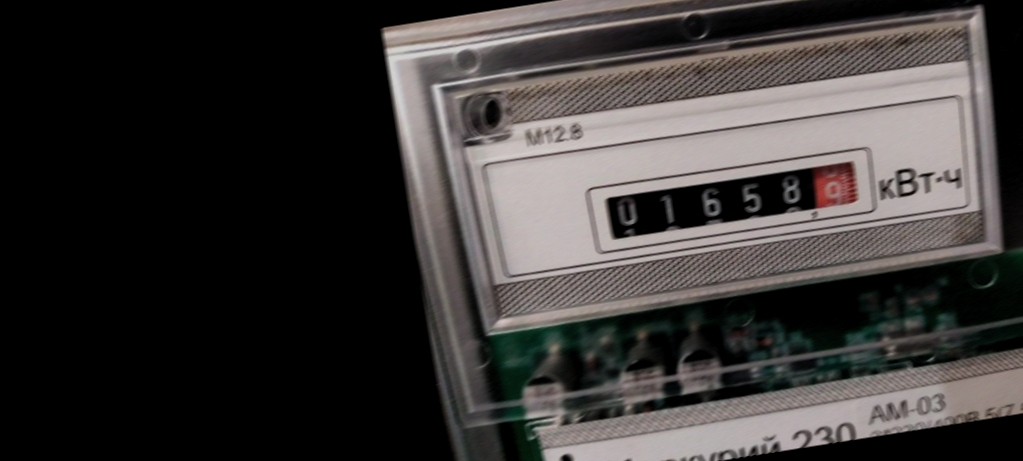0: (615, 196, 639, 229)
1: (658, 193, 679, 227)
5: (739, 182, 765, 216)
6: (699, 185, 724, 221)
8: (779, 173, 804, 207)
9: (821, 180, 846, 211)
screen: (576, 137, 885, 265)
